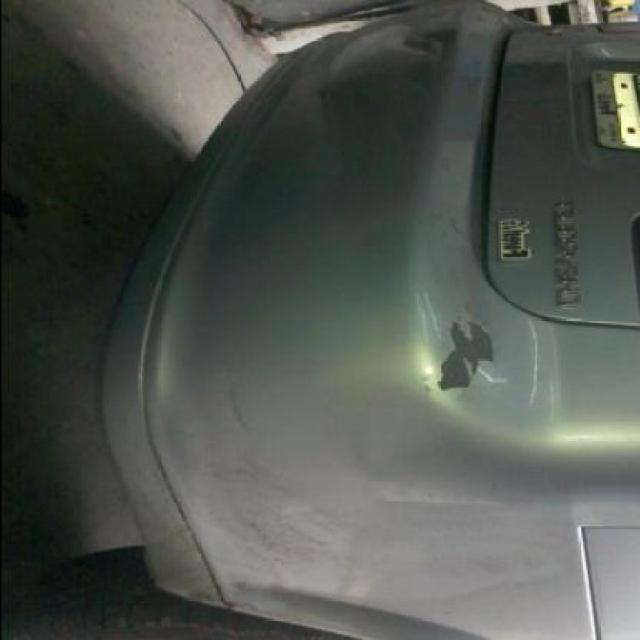damage: (435, 318, 493, 391), (217, 375, 258, 439)
